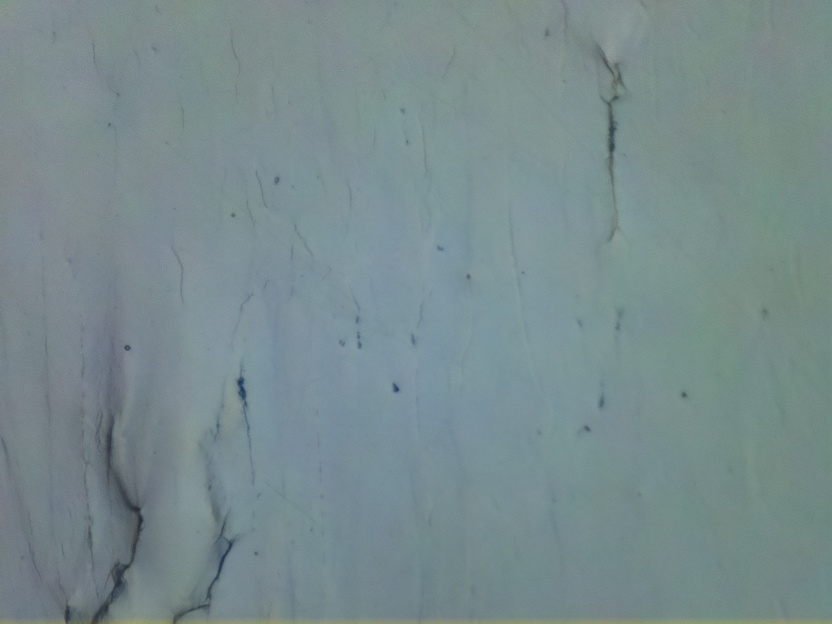crack: (63, 413, 143, 624), (590, 36, 627, 249), (172, 534, 245, 624)
